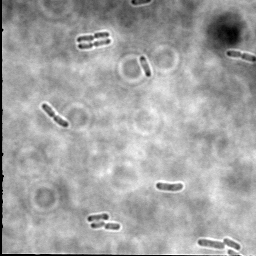Dividing: (40, 101, 71, 130), (76, 37, 113, 51), (76, 30, 111, 44), (225, 48, 255, 63), (90, 220, 123, 232)
Rod: (155, 180, 185, 193), (197, 237, 226, 250), (138, 54, 153, 78), (222, 236, 243, 252), (86, 212, 111, 223)
